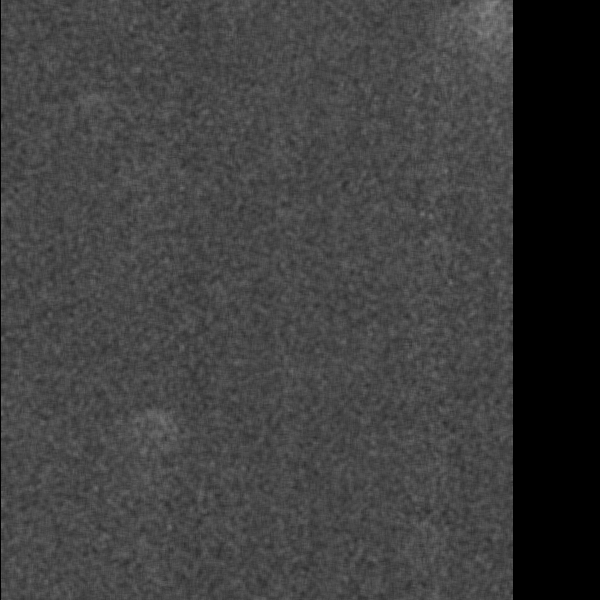spark: (103, 404, 188, 440)
